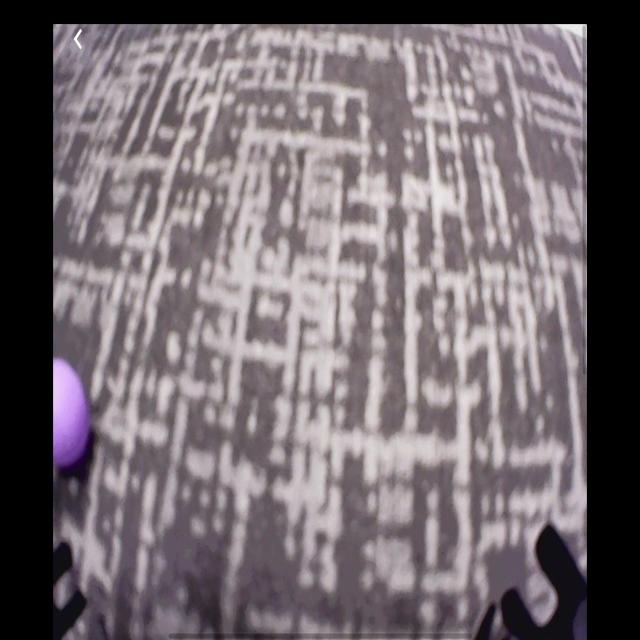ball: (55, 356, 91, 474)
